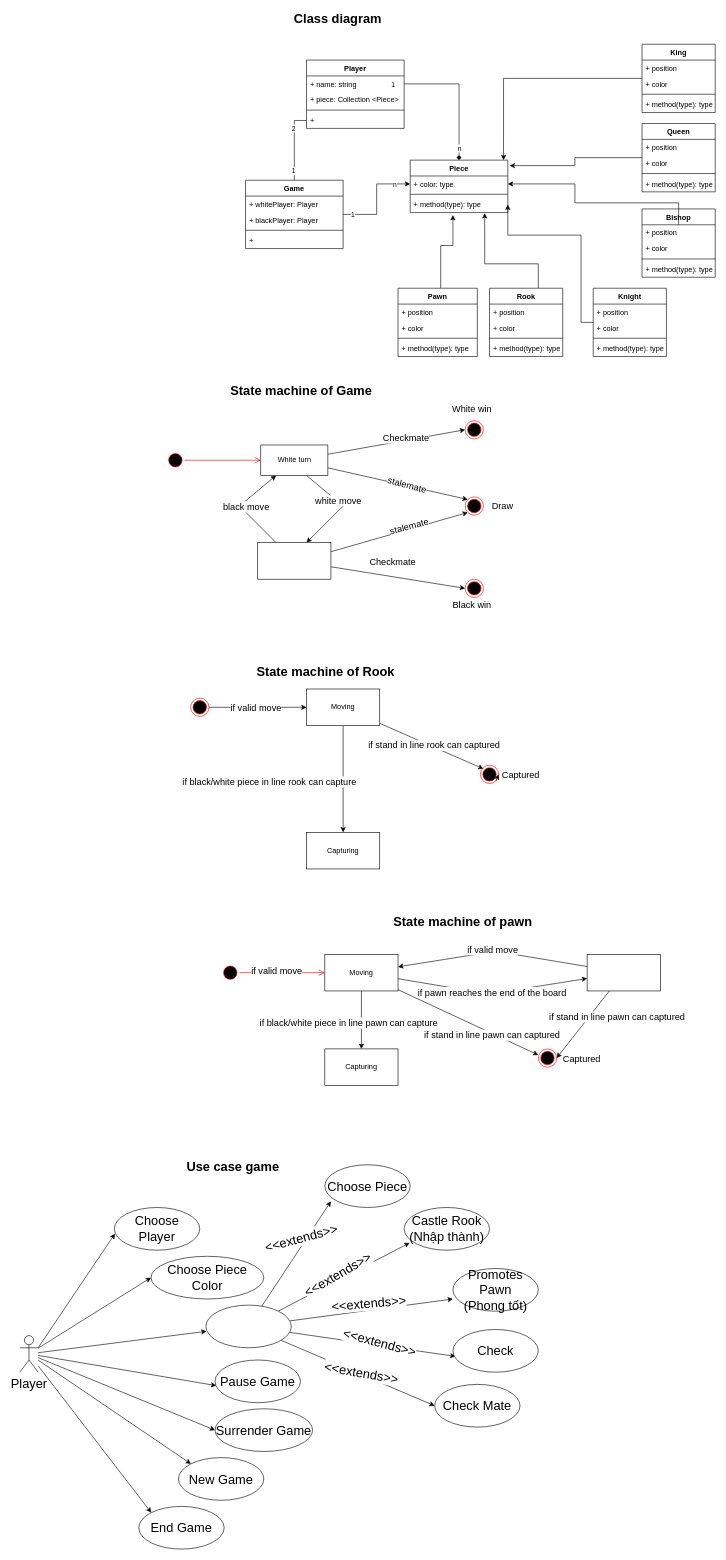
Some shapes in this 726 by 1560 pixel diagram are drawn without their labels. The shapes that lost their labels are listed below. From the top down, each one's centre as x and y in pixels, then its label:
the point at 294,560: Black turn
the point at 623,972: Promote (Phong)
the point at 248,1326: Move Piece
